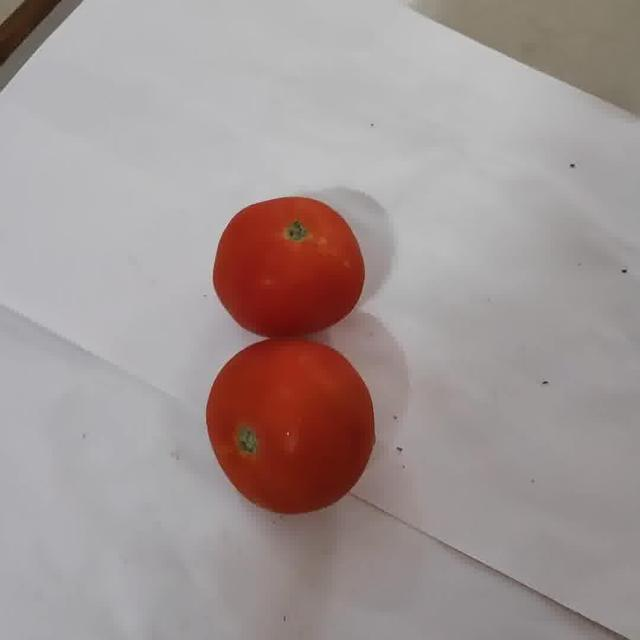Tomato: (206, 340, 375, 513), (213, 196, 365, 338)
